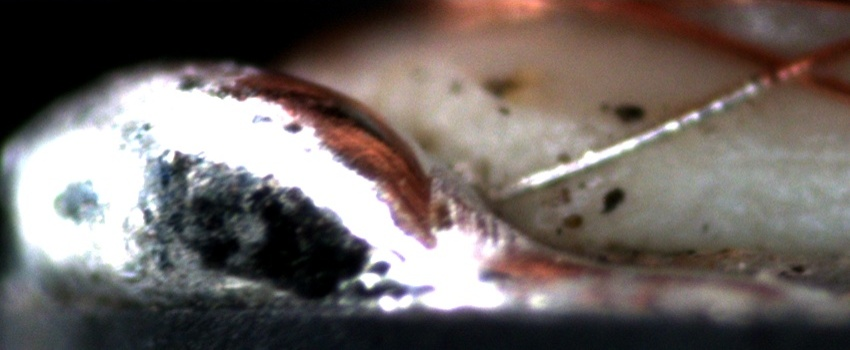CL: (750, 38, 833, 91)
DL: (678, 126, 850, 190)
TS: (485, 79, 765, 206)
